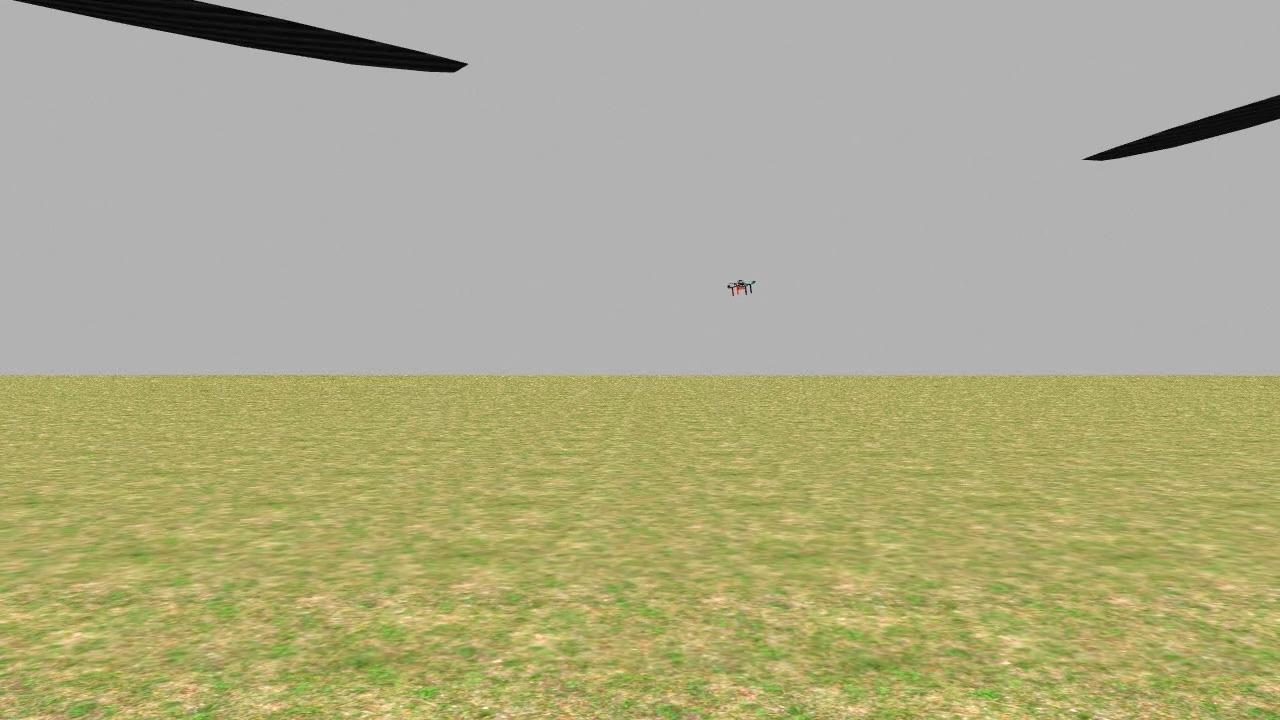UAV: (720, 271, 763, 309)
